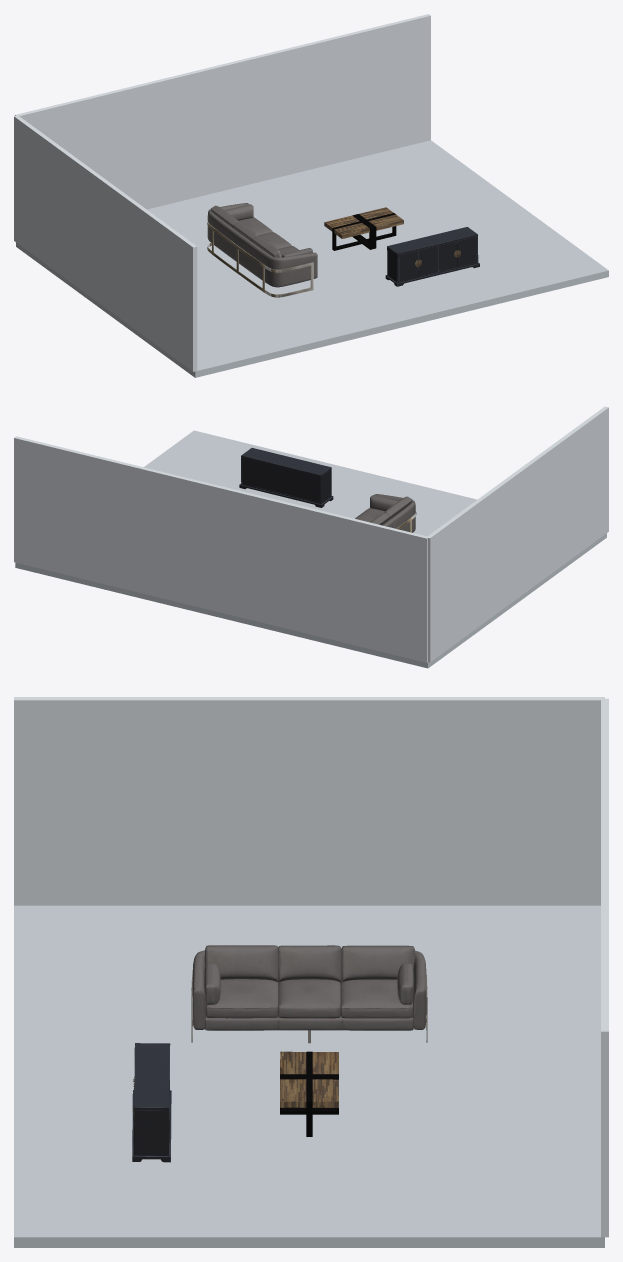
File: stage1.glb
The picture shows the model from 3 angles, top to bottom: view 1: azimuth 30°, elevation 25°; view 2: azimuth 150°, elevation 25°; view 3: azimuth 270°, elevation 25°; orthographic projection. The views are drawn at different scales.
Parts seen in each view (by area): view 1: Floor, wall_back, wall_left, raw_model, raw_model.002, raw_model.001; view 2: wall_back, wall_left, Floor, raw_model.002, raw_model; view 3: Floor, wall_left, raw_model, raw_model.002, wall_back, raw_model.001.
Part boxes in pixels (<box>): Floor: <box>16,140,608,377</box>; wall_back: <box>15,14,430,209</box>; wall_left: <box>14,116,197,371</box>; raw_model: <box>207,203,317,297</box>; raw_model.002: <box>385,227,479,286</box>; raw_model.001: <box>324,207,403,250</box>; wall_back: <box>14,436,428,662</box>; wall_left: <box>427,406,608,662</box>; Floor: <box>15,430,606,668</box>; raw_model.002: <box>239,448,333,507</box>; raw_model: <box>355,494,416,532</box>; Floor: <box>14,905,604,1247</box>; wall_left: <box>14,697,604,905</box>; raw_model: <box>191,945,427,1043</box>; raw_model.002: <box>132,1043,171,1162</box>; wall_back: <box>601,698,608,1237</box>; raw_model.001: <box>280,1051,338,1136</box>.
Size of the model in its own units: 8.04 by 2.42 by 6.04.
5 materials, 3 textured.
